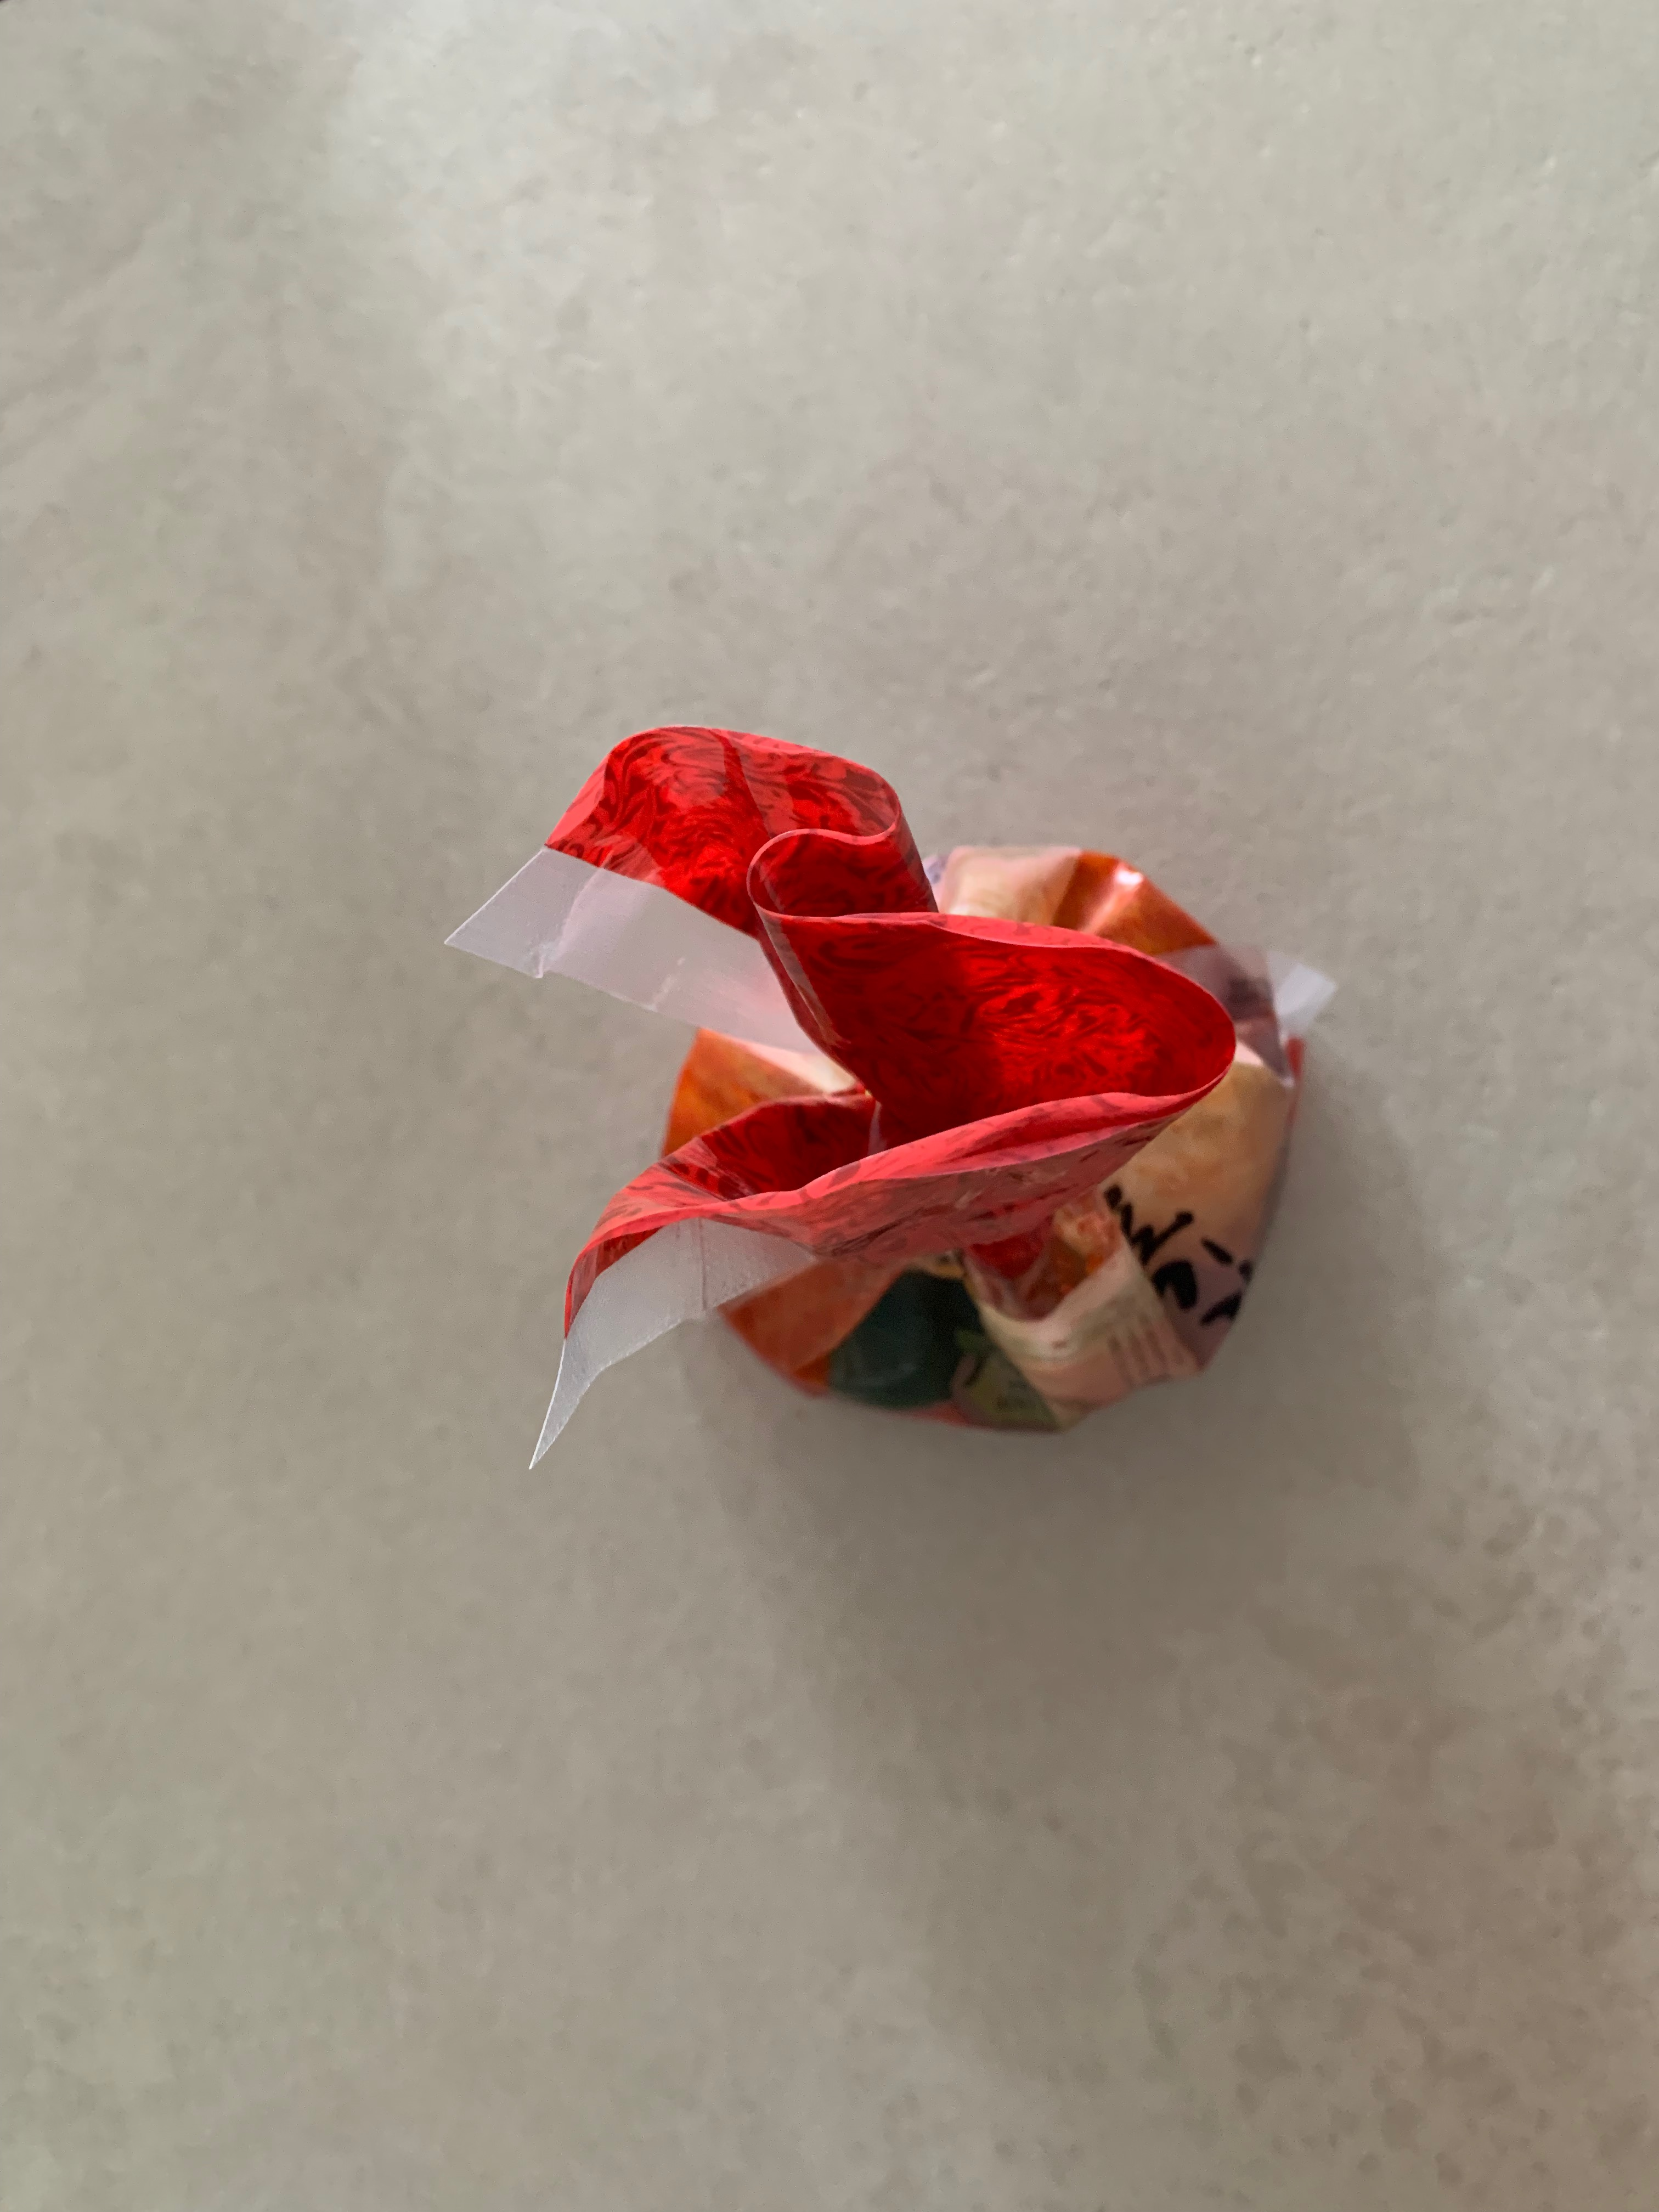kimchi: (549, 725, 1307, 1440)
